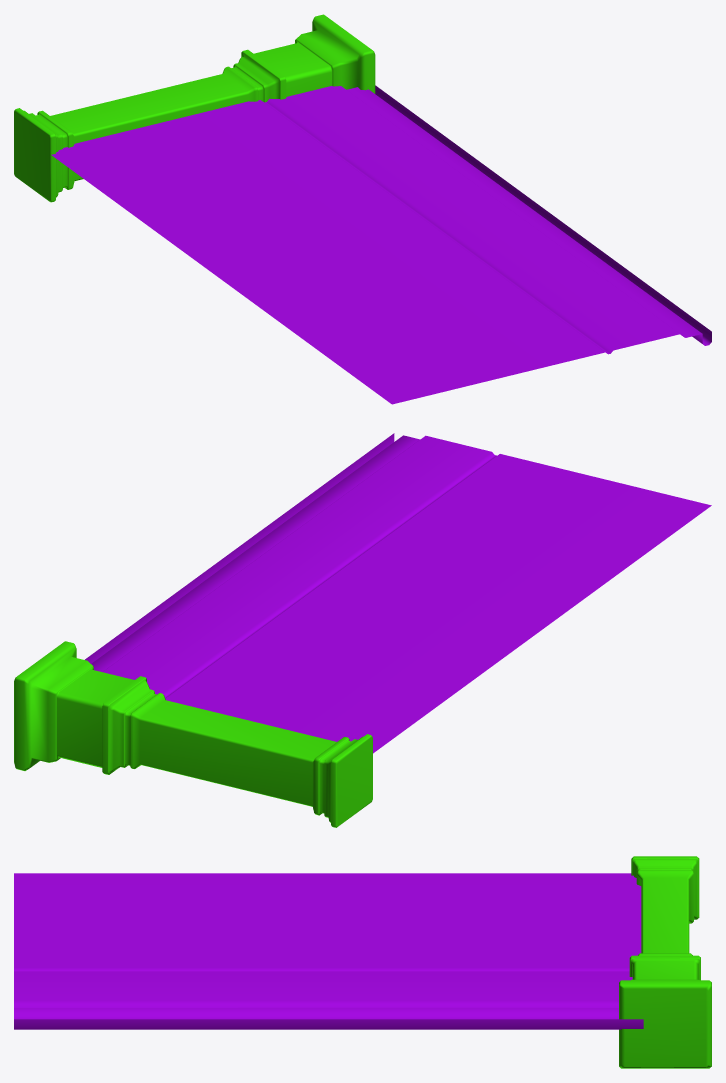
File: Wall_4.fbx
3 views of the same model, one above another, from view 1: azimuth 30°, elevation 25°; view 2: azimuth 150°, elevation 25°; view 3: azimuth 270°, elevation 25° (orthographic). The views are drawn at different scales.
Visible parts, largest first — view 1: Wall_4; view 2: Wall_4; view 3: Wall_4.
Part boxes in pixels (x1,y1,x2,y2): Wall_4: (14, 14, 711, 404); Wall_4: (14, 433, 711, 827); Wall_4: (14, 856, 711, 1068).
Size of the model in its own units: 519 by 145 by 1083.
